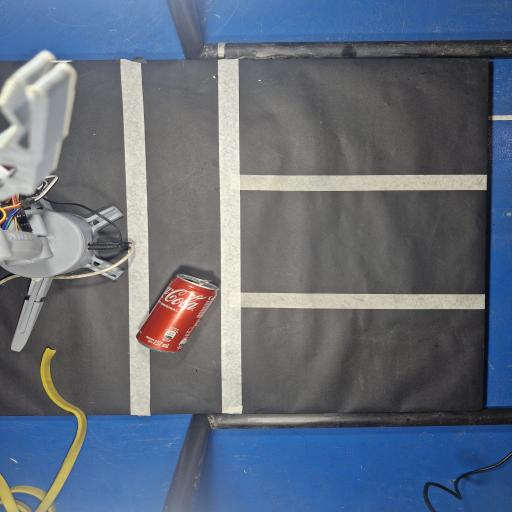lata: (136, 274, 219, 352)
